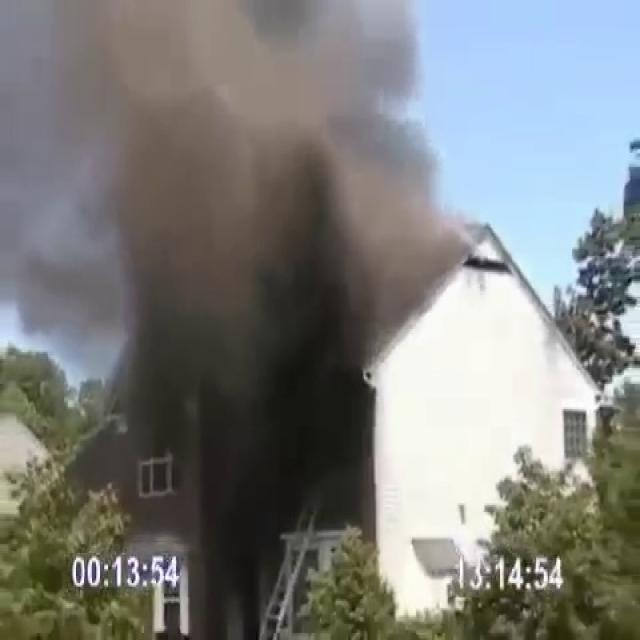Smoke: (2, 0, 492, 432)
